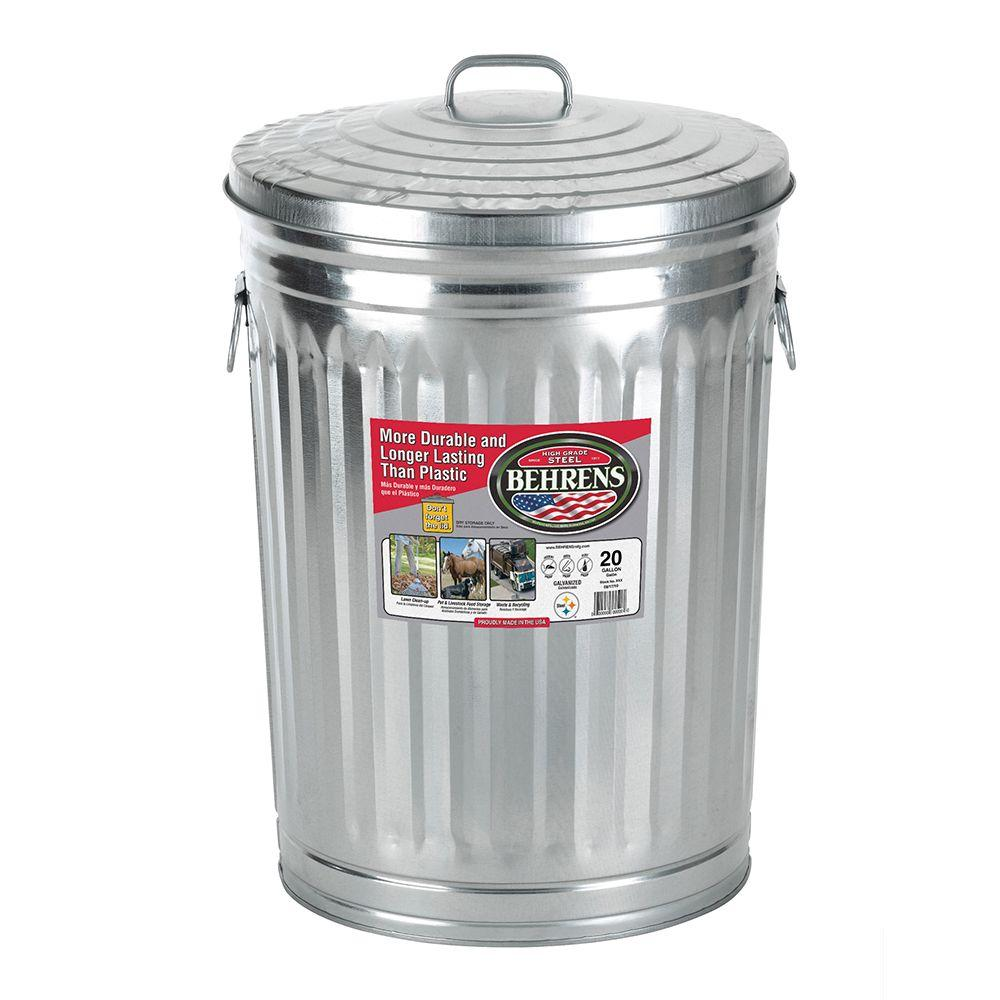metal: (220, 51, 802, 949)
